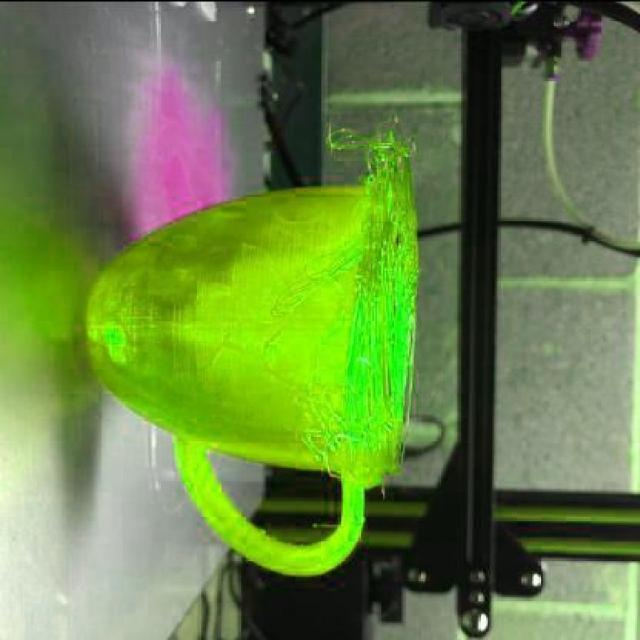spaghetti: (303, 113, 423, 498)
